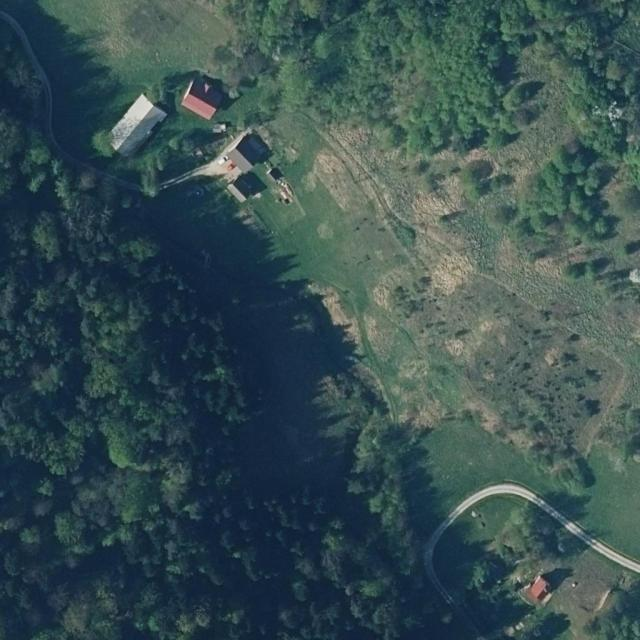building: (103, 93, 168, 162), (178, 73, 228, 122), (226, 129, 275, 178), (226, 167, 268, 208), (521, 574, 553, 607)
greenland: (0, 21, 436, 640), (416, 395, 604, 511), (484, 504, 553, 575), (466, 557, 493, 594), (510, 570, 535, 585)
unmetalled_road: (411, 457, 640, 619), (0, 7, 144, 219)
